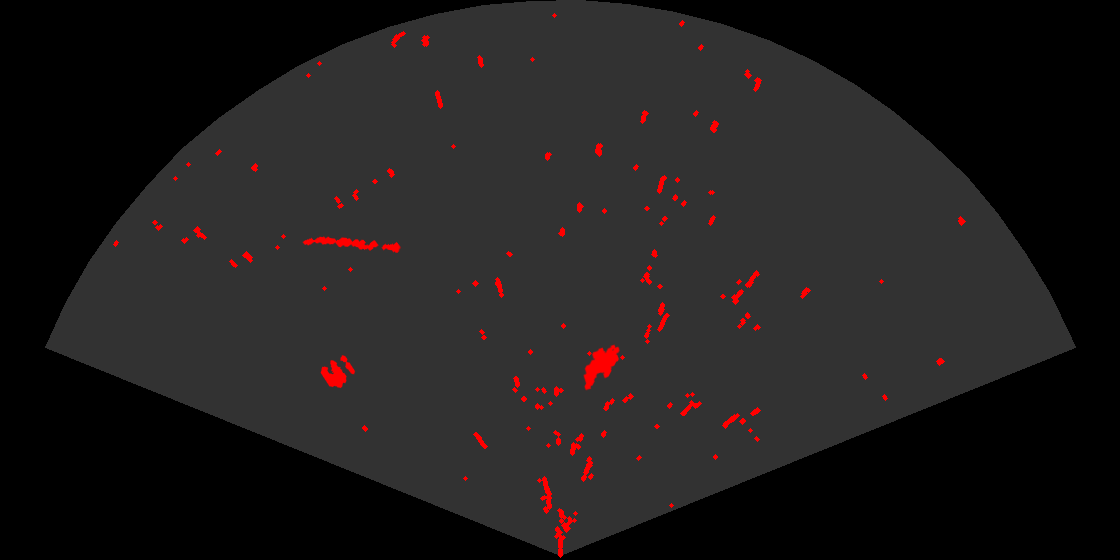AUV: (582, 343, 621, 392)
ball: (319, 353, 357, 390)
chain: (301, 235, 403, 254)
